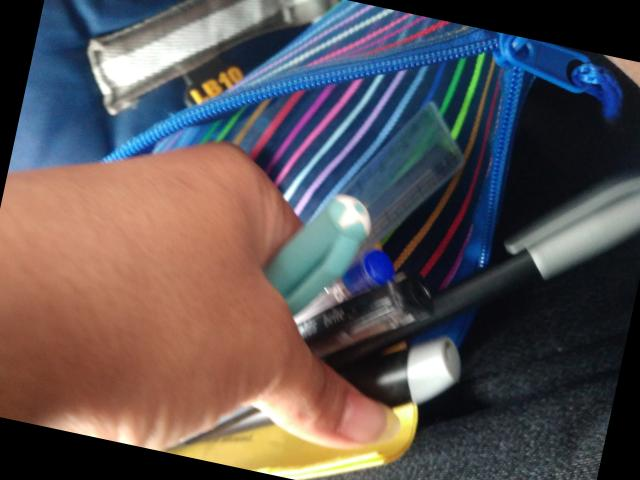PEN: (90, 327, 399, 480), (141, 224, 293, 377)
